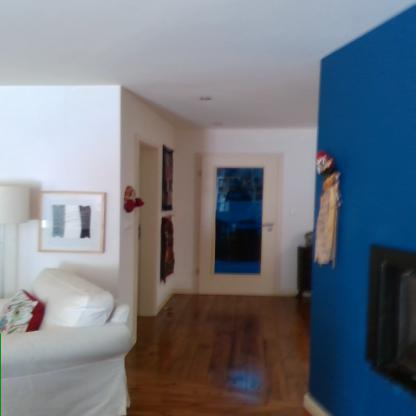door: (201, 157, 278, 298)
hinged: (195, 266, 201, 276), (198, 167, 203, 176)
lever: (258, 222, 276, 228)
